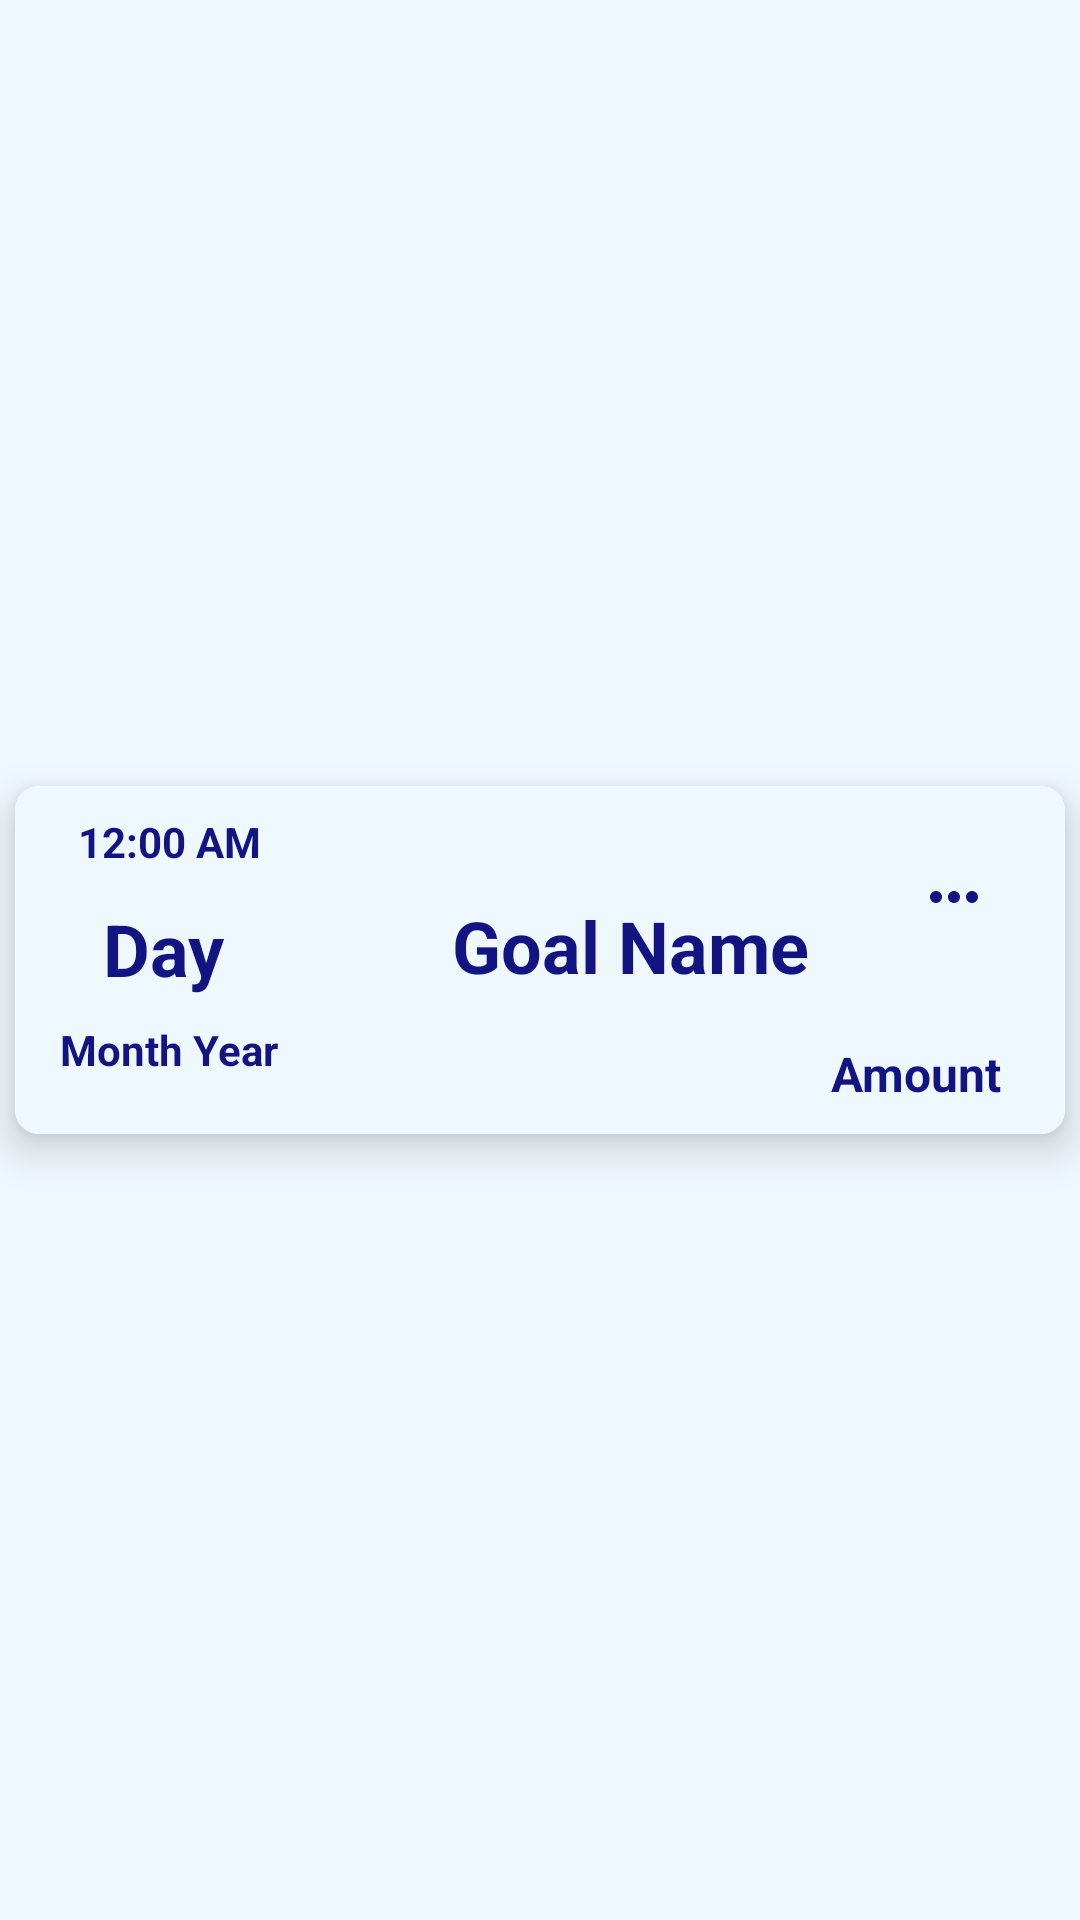

Point at icon controls on the screen. Image size 1080*1920, points as (x,y).
Menu Button: (954,897)
